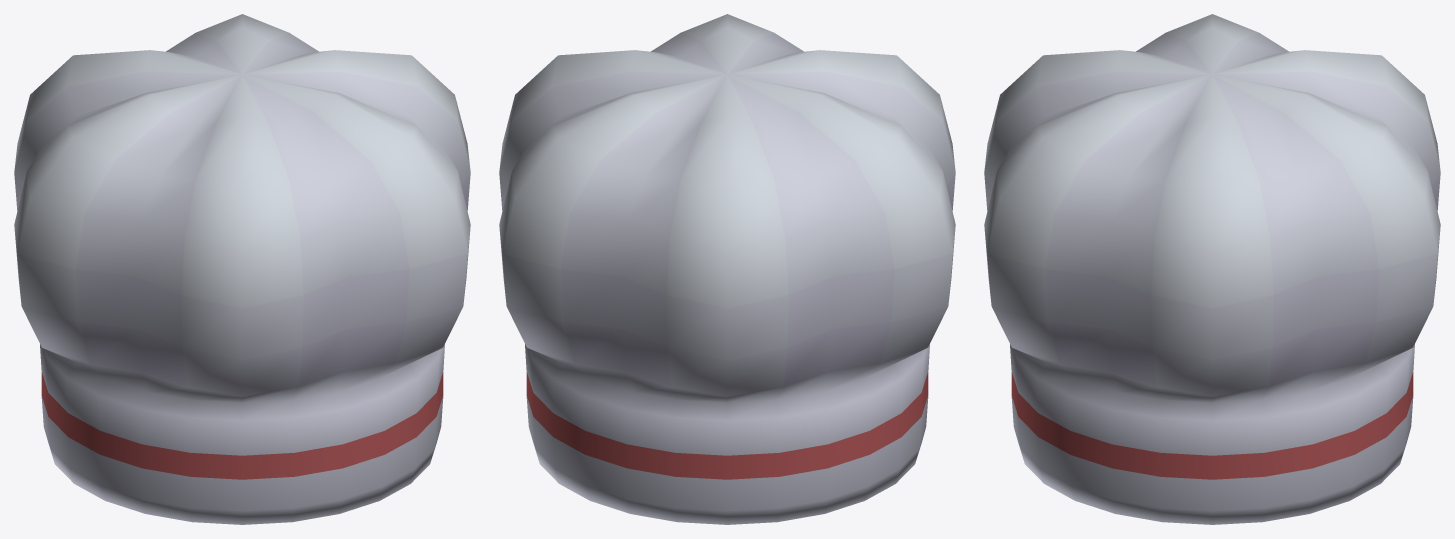
Rendered from slime_hat_chef.fbx.
The picture shows the model from 3 angles, left to right: view 1: azimuth 30°, elevation 25°; view 2: azimuth 150°, elevation 25°; view 3: azimuth 270°, elevation 25°; orthographic projection.
Visible parts, largest first — view 1: slime_hat_chef; view 2: slime_hat_chef; view 3: slime_hat_chef.
Part boxes in pixels (box(x1,y1,x2,y2)): slime_hat_chef: box(14, 14, 470, 524); slime_hat_chef: box(499, 14, 955, 524); slime_hat_chef: box(984, 14, 1440, 524).
Size of the model in its own units: 2.35 by 1.85 by 2.07.
